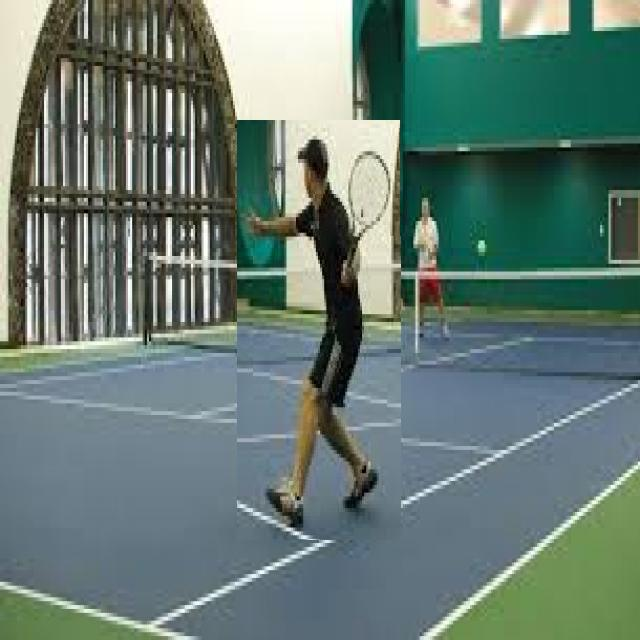court: (2, 326, 640, 640)
net: (140, 236, 640, 380)
player: (238, 120, 402, 540)
